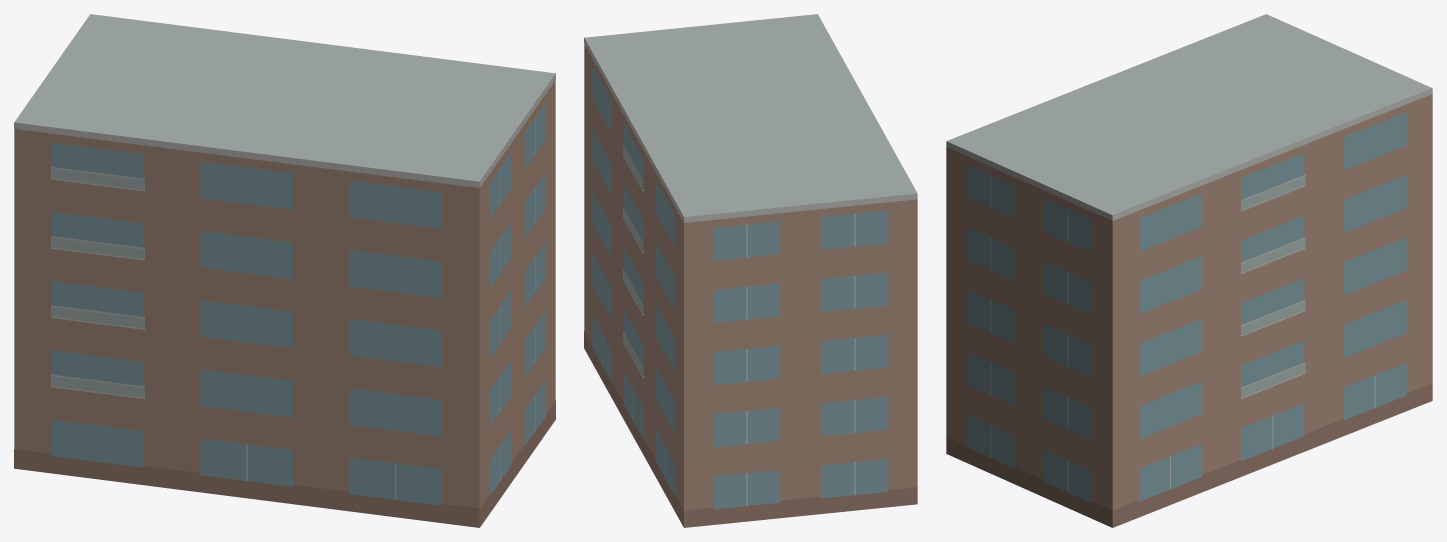
Rendered from survey-upis-32710555.glb.
3 renders of one model, left to right at view 1: azimuth 30°, elevation 25°; view 2: azimuth 150°, elevation 25°; view 3: azimuth 270°, elevation 25°, orthographic. The views are drawn at different scales.
Parts seen in each view (by area): view 1: survey-upis-32710555.tmp; view 2: survey-upis-32710555.tmp; view 3: survey-upis-32710555.tmp.
Part boxes in pixels (x1=…): survey-upis-32710555.tmp: x1=14, y1=14, x2=555, y2=527; survey-upis-32710555.tmp: x1=584, y1=14, x2=917, y2=527; survey-upis-32710555.tmp: x1=946, y1=14, x2=1432, y2=527.
Bounding box in the file's own units: 18.23 × 13.2 × 18.61.
